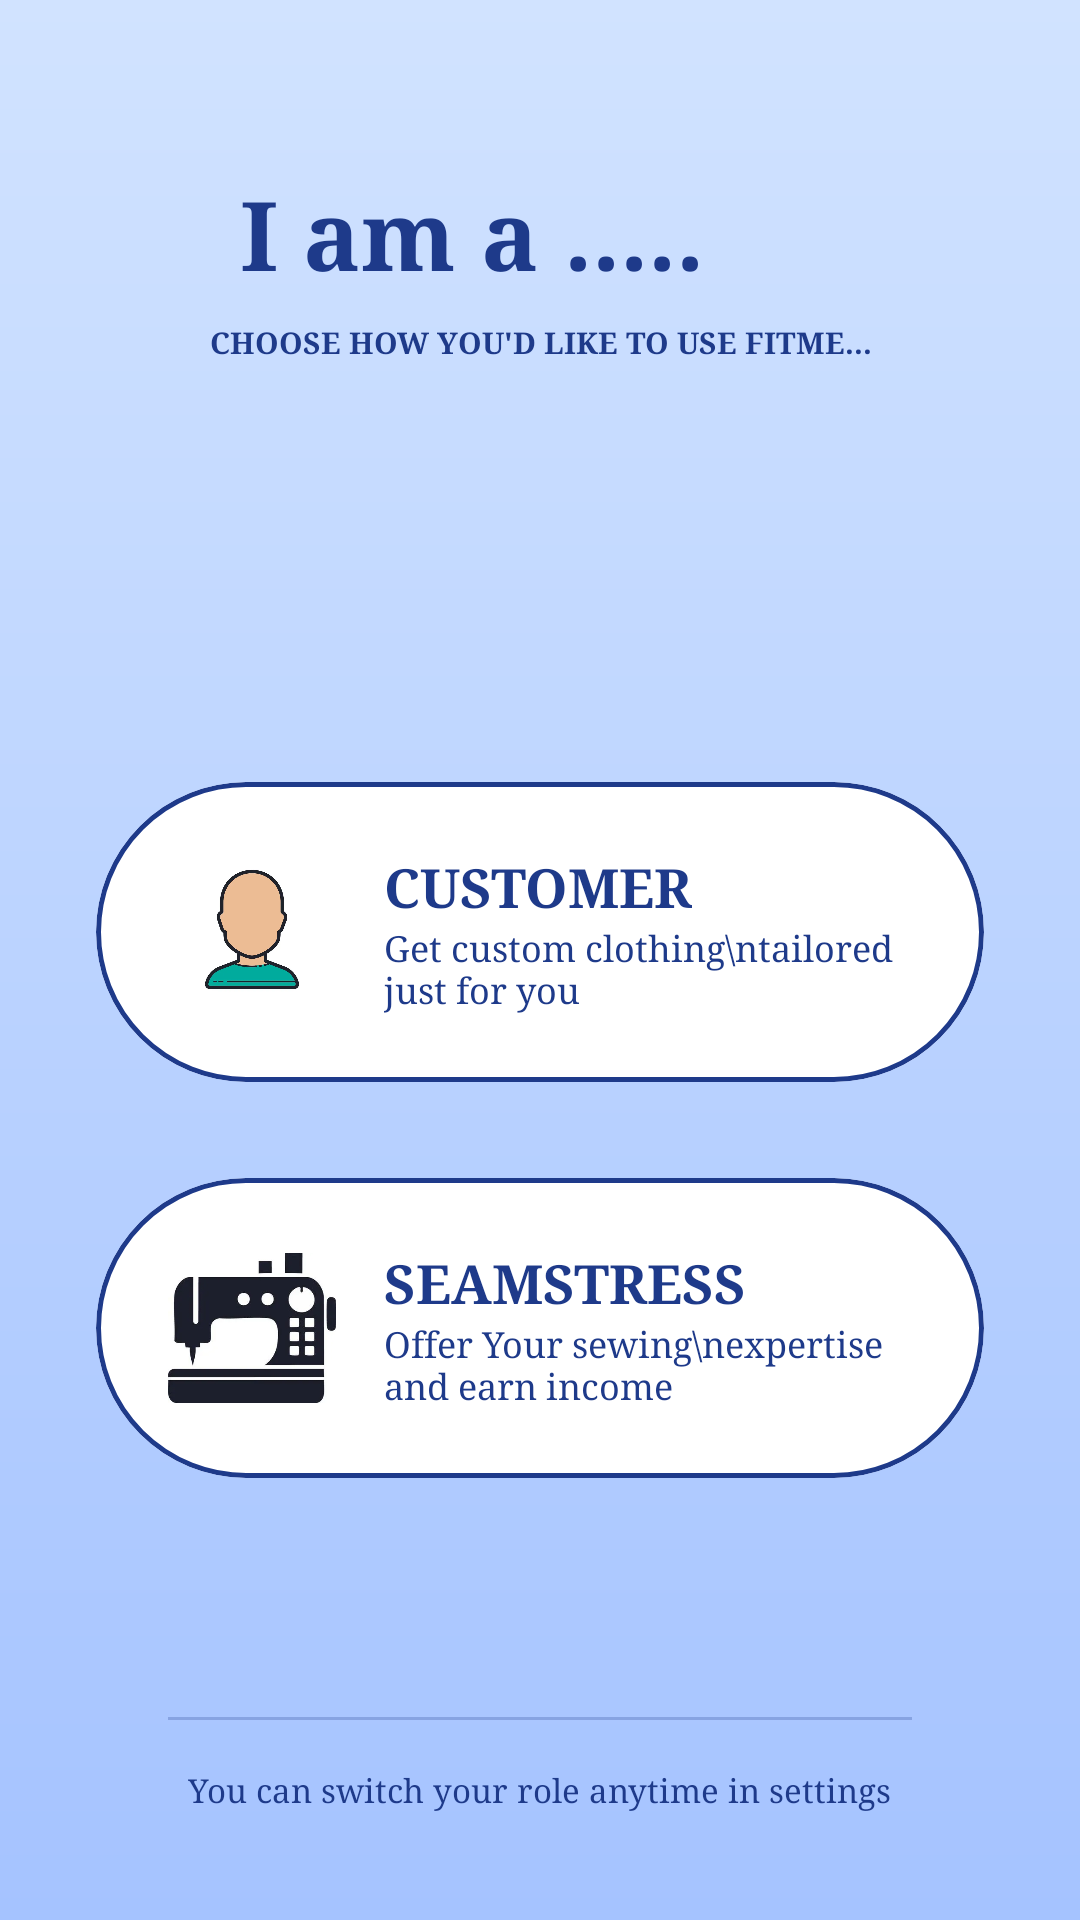

Icons on this 1080px x 1920px Android screen, each with its box as (x1, y1, x2, y2):
machine: (168, 1253, 336, 1403)
